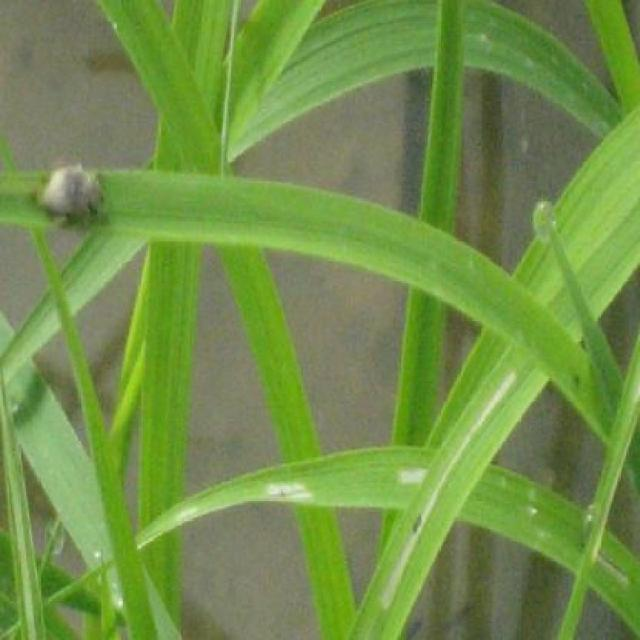rice-bug: (38, 161, 108, 228)
